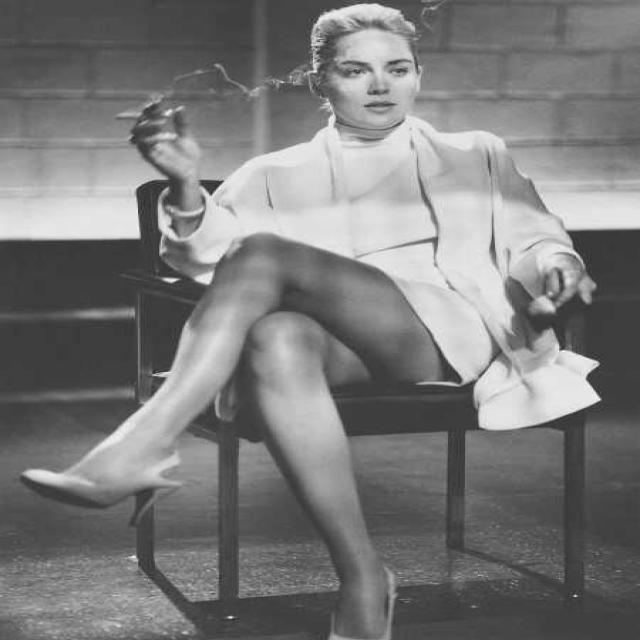Smooking: (106, 99, 197, 125)
